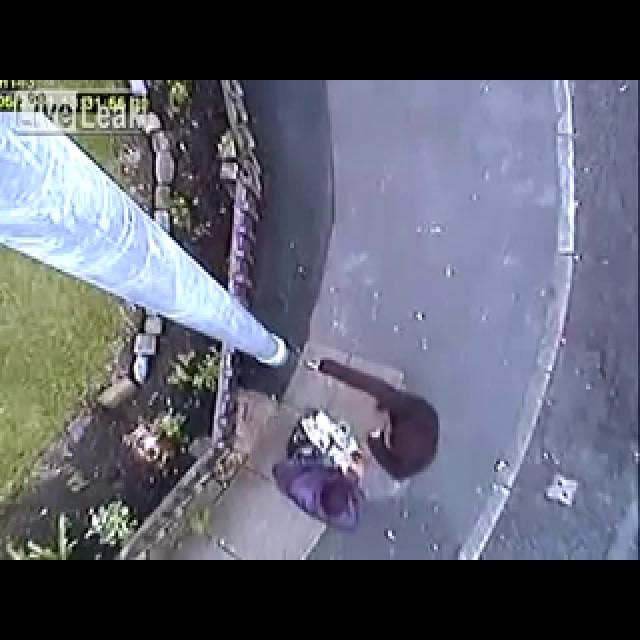vandalism: (118, 256, 448, 548)
